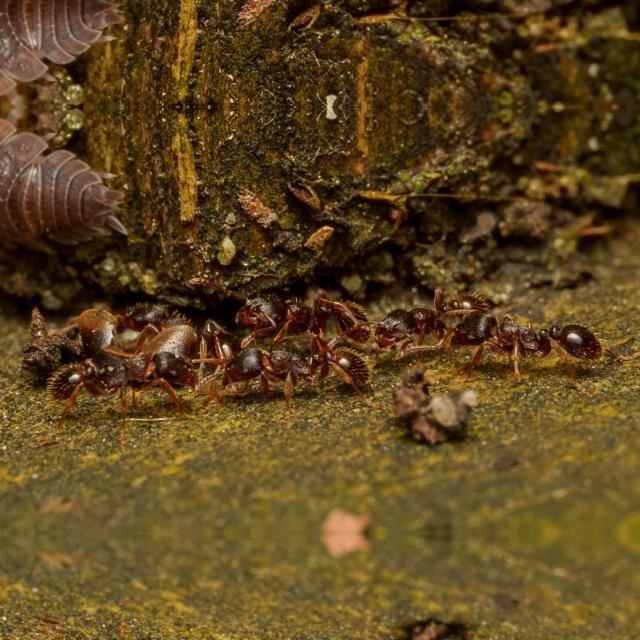Tetramorium: (51, 344, 207, 426), (368, 268, 500, 358), (217, 333, 375, 407), (446, 304, 604, 376), (230, 284, 386, 348), (118, 292, 242, 366)
